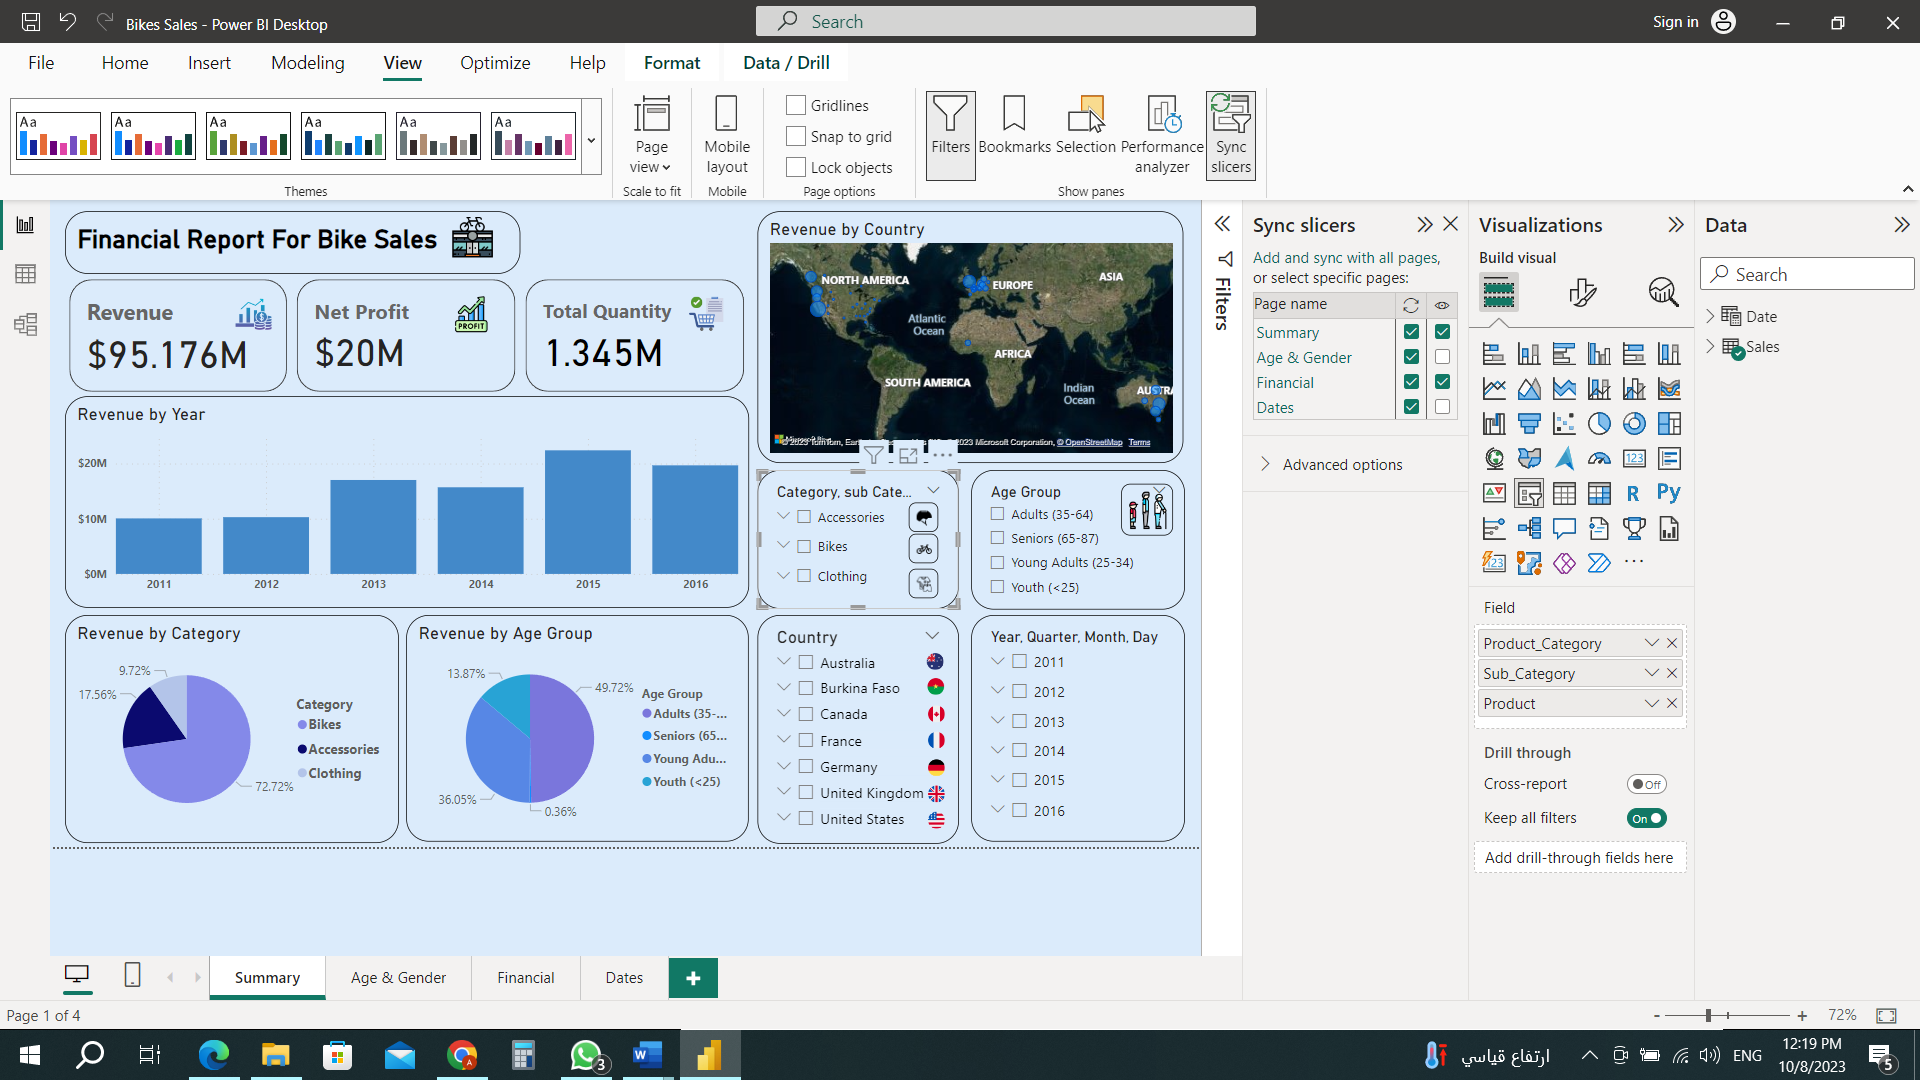

The page's visual inventory and layout, read from the dashboard file:
{"tool":"powerbi","page":{"name":"Summary","canvas":[1280,720],"ordinal":0},"visuals":[{"type":"map","title":"Revenue by Country","fields":{"Size":["Sum(Sales.Revenue)"],"Category":["Sales.State"]},"box":[786.5,12.6,473.7,280.2],"z":0},{"type":"cardVisual","fields":{"Data":["Sum(Sales.Revenue)"]},"box":[16.9,83.2,252.1,135.1],"z":1000},{"type":"cardVisual","fields":{"Data":["Sum(Sales.Net Profit)"]},"box":[270,83.2,253,135],"z":2000},{"type":"slicer","fields":{"Values":["Sales.Age_Group"]},"box":[1023.9,300,237.6,155],"z":3000},{"type":"slicer","title":"Category","fields":{"Values":["Sales.Product_Category","Sales.Sub_Category","Sales.Product"]},"box":[786.3,300,224.3,154],"z":4000},{"type":"slicer","fields":{"Values":["Date.Year","Date.Quarter","Date.Month Name","Date.Day Of Week"]},"box":[1023.9,461.9,237.6,252.1],"z":5000},{"type":"slicer","fields":{"Values":["Sales.Corrected Country","Sales.State"]},"box":[786.3,461.9,224.3,254],"z":6000},{"type":"cardVisual","fields":{"Data":["Sum(Sales.Order_Quantity)"]},"box":[524.6,83.2,253.3,135.1],"z":7000},{"type":"pieChart","title":"Revenue by Category","fields":{"Category":["Sales.Product_Category"],"Y":["Sum(Sales.Revenue)"]},"box":[16.9,461.9,371.5,253.3],"z":8000},{"type":"pieChart","title":"Revenue by Age Group","fields":{"Y":["Sum(Sales.Revenue)"],"Category":["Sales.Age_Group"]},"box":[396.8,461.9,381.1,252.1],"z":10000},{"type":"textbox","box":[16.9,12.1,506.5,69.9],"z":11000},{"type":"lineClusteredColumnComboChart","title":"Revenue by Year","fields":{"Category":["Sales.Year"],"Y":["Sum(Sales.Revenue)"]},"box":[16.9,218.3,761,235],"z":12000},{"type":"image","box":[971,587,28,28],"z":13000},{"type":"image","box":[971,617,28,28],"z":14000},{"type":"image","box":[971,646,28,28],"z":15000},{"type":"image","box":[971,676,28,28],"z":16000},{"type":"image","box":[971,557,28,28],"z":17000},{"type":"image","box":[970.9,499,28,28],"z":18000},{"type":"image","box":[1191.6,316,57.9,57.9],"z":19000},{"type":"image","box":[955,371,33,33],"z":20000},{"type":"image","box":[955,410,33,33],"z":21000},{"type":"image","box":[955.2,336,33,33],"z":22000},{"type":"image","box":[201.4,101.3,49.4,50.7],"z":23000},{"type":"image","box":[704.3,101.3,49.4,49.4],"z":24000},{"type":"image","box":[431.8,12.1,74.8,57.9],"z":25000},{"type":"image","box":[443.8,101.3,49.4,50.7],"z":26000},{"type":"image","box":[969.6,527,28.9,28],"z":27000}]}

Visuals, with their boxes on the page's 1280x720 design canvas (x1, y1, x2, y2). These are canvas units, not pixel positions in the 1920x1080 screenshot, which may show the page scaled, cropped or inside an application window:
"Revenue by Country" map: left=786, top=13, right=1260, bottom=293
cardVisual - Sum(Sales.Revenue): left=17, top=83, right=269, bottom=218
cardVisual - Sum(Sales.Net Profit): left=270, top=83, right=523, bottom=218
slicer - Sales.Age_Group: left=1024, top=300, right=1262, bottom=455
"Category" slicer: left=786, top=300, right=1011, bottom=454
slicer - Date.Year x Date.Quarter: left=1024, top=462, right=1262, bottom=714
slicer - Sales.Corrected Country x Sales.State: left=786, top=462, right=1011, bottom=716
cardVisual - Sum(Sales.Order_Quantity): left=525, top=83, right=778, bottom=218
"Revenue by Category" pieChart: left=17, top=462, right=388, bottom=715
"Revenue by Age Group" pieChart: left=397, top=462, right=778, bottom=714
textbox: left=17, top=12, right=523, bottom=82
"Revenue by Year" lineClusteredColumnComboChart: left=17, top=218, right=778, bottom=453
image: left=971, top=587, right=999, bottom=615
image: left=971, top=617, right=999, bottom=645
image: left=971, top=646, right=999, bottom=674
image: left=971, top=676, right=999, bottom=704
image: left=971, top=557, right=999, bottom=585
image: left=971, top=499, right=999, bottom=527
image: left=1192, top=316, right=1250, bottom=374
image: left=955, top=371, right=988, bottom=404
image: left=955, top=410, right=988, bottom=443
image: left=955, top=336, right=988, bottom=369
image: left=201, top=101, right=251, bottom=152
image: left=704, top=101, right=754, bottom=151
image: left=432, top=12, right=507, bottom=70
image: left=444, top=101, right=493, bottom=152
image: left=970, top=527, right=998, bottom=555
